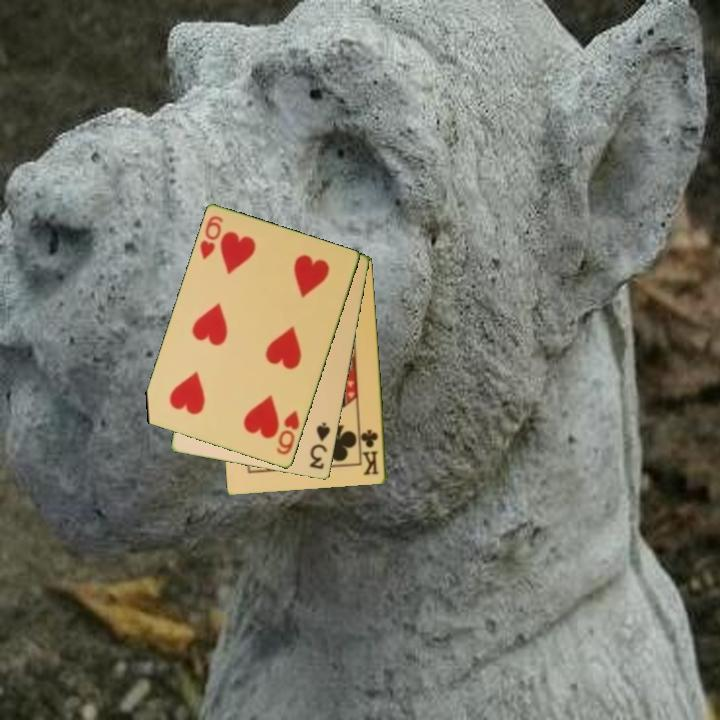3s: (306, 419, 333, 472)
6h: (273, 407, 303, 458), (196, 212, 226, 263)
Kc: (358, 426, 382, 478)
